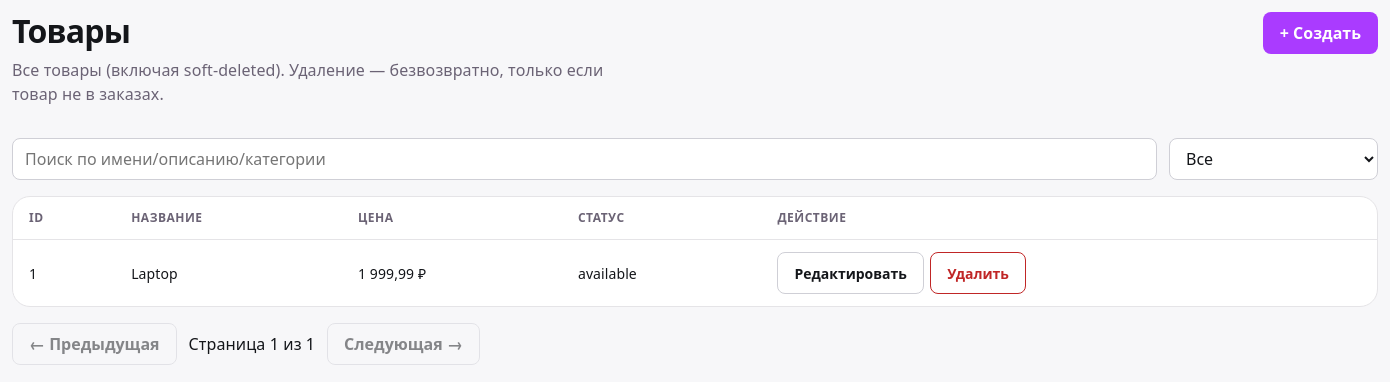
Scenario: AdminProductsPage › отмена редактирования не вызывает API
Expected: the text "Laptop" is shown, [115,240,342,306]
Click the button "Редактировать" at [851, 273], box [778,252,924,294]
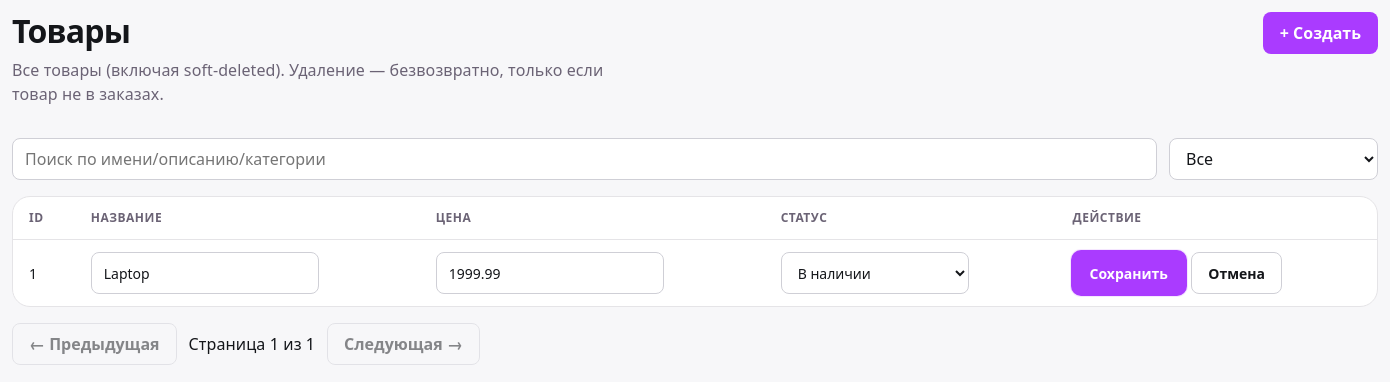
Click the button "Отмена" at [1237, 273], box [1191,252,1282,294]
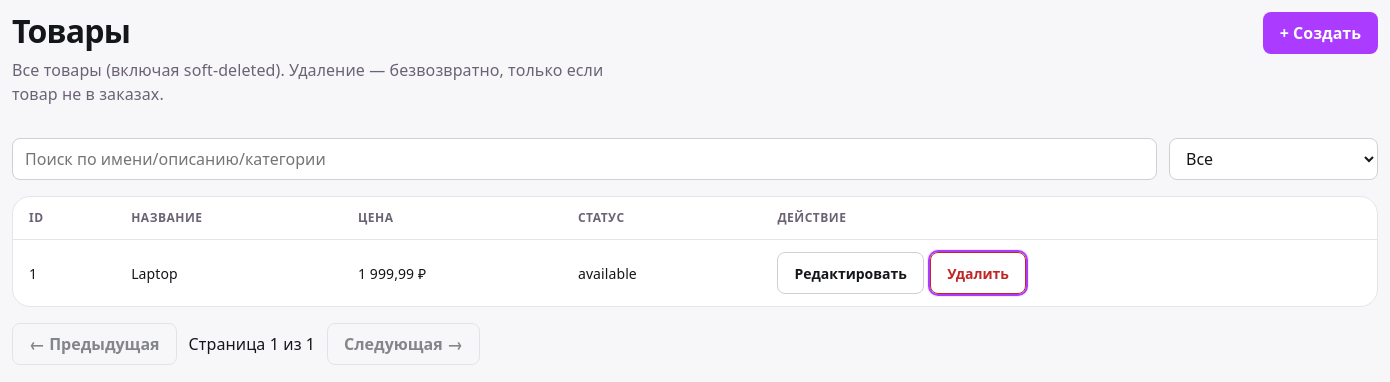
Expected: the text "Laptop" is shown, [115,240,342,306]
